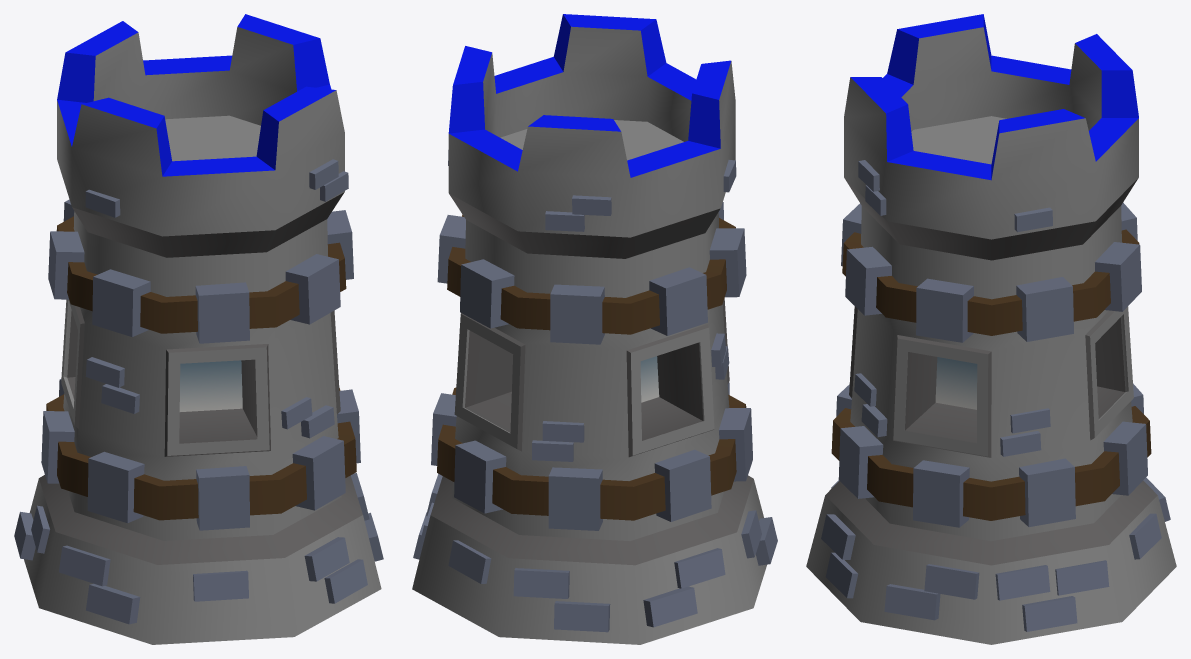
Rendered from Tower9.fbx.
3 renders of one model, left to right at view 1: azimuth 30°, elevation 25°; view 2: azimuth 150°, elevation 25°; view 3: azimuth 270°, elevation 25°, orthographic.
Parts seen in each view (by area): view 1: Tower9; view 2: Tower9; view 3: Tower9.
Part boxes in pixels (<box>): Tower9: <box>14,14,383,644</box>; Tower9: <box>412,14,777,644</box>; Tower9: <box>806,14,1176,644</box>.
Size of the model in its own units: 950 by 1398 by 950.
